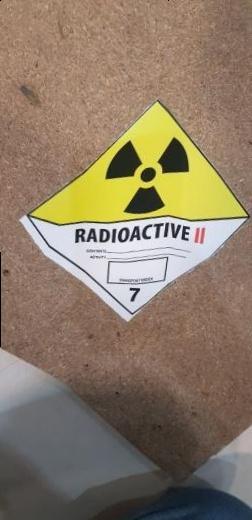radioactive: (18, 91, 250, 335)
